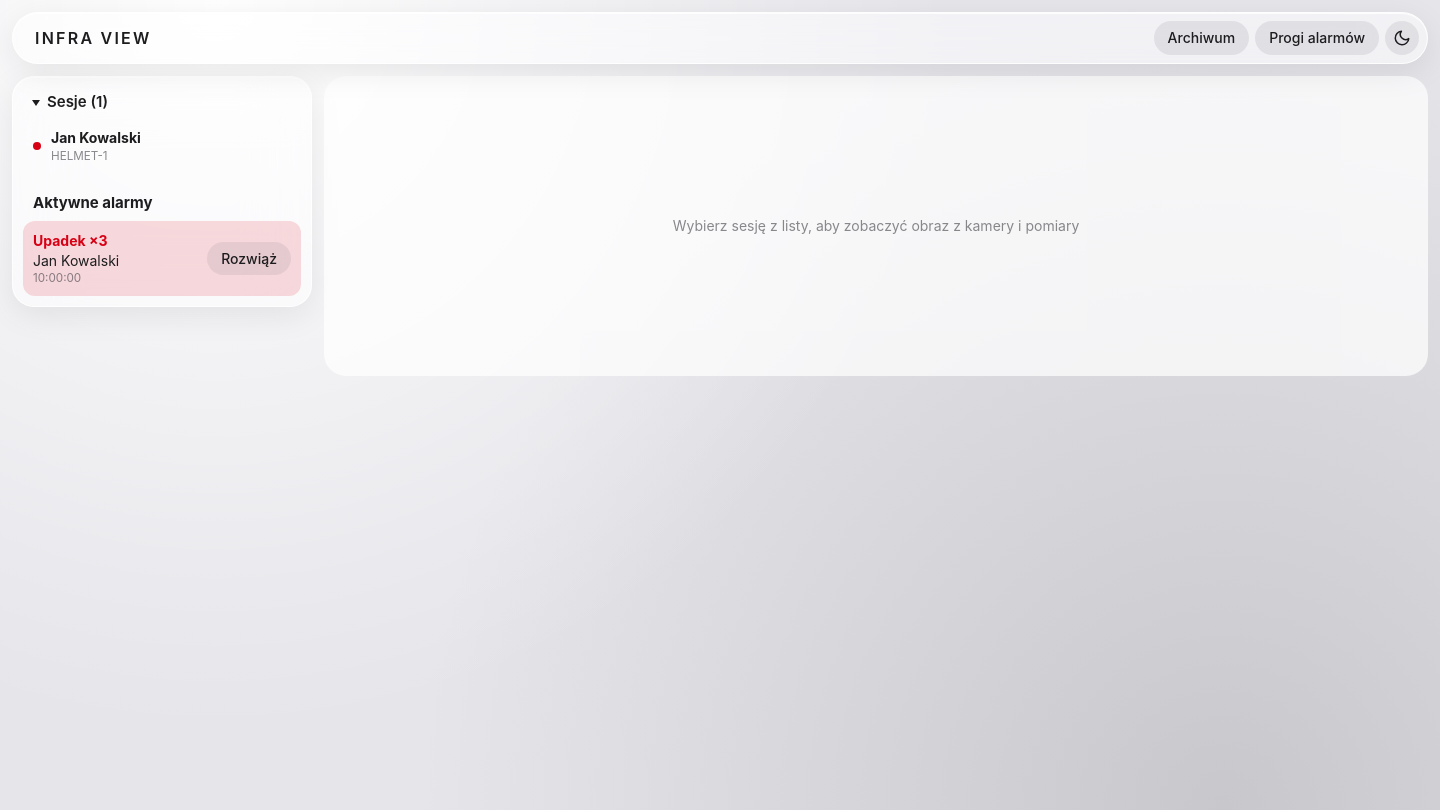
it: archiwum filtruje sesje i otwiera zakończoną
Check: the button "Jan Kowalski HELMET-1" is shown, box [23, 120, 301, 172]
Click the button "Archiwum" at (1201, 38), box [1154, 21, 1249, 55]
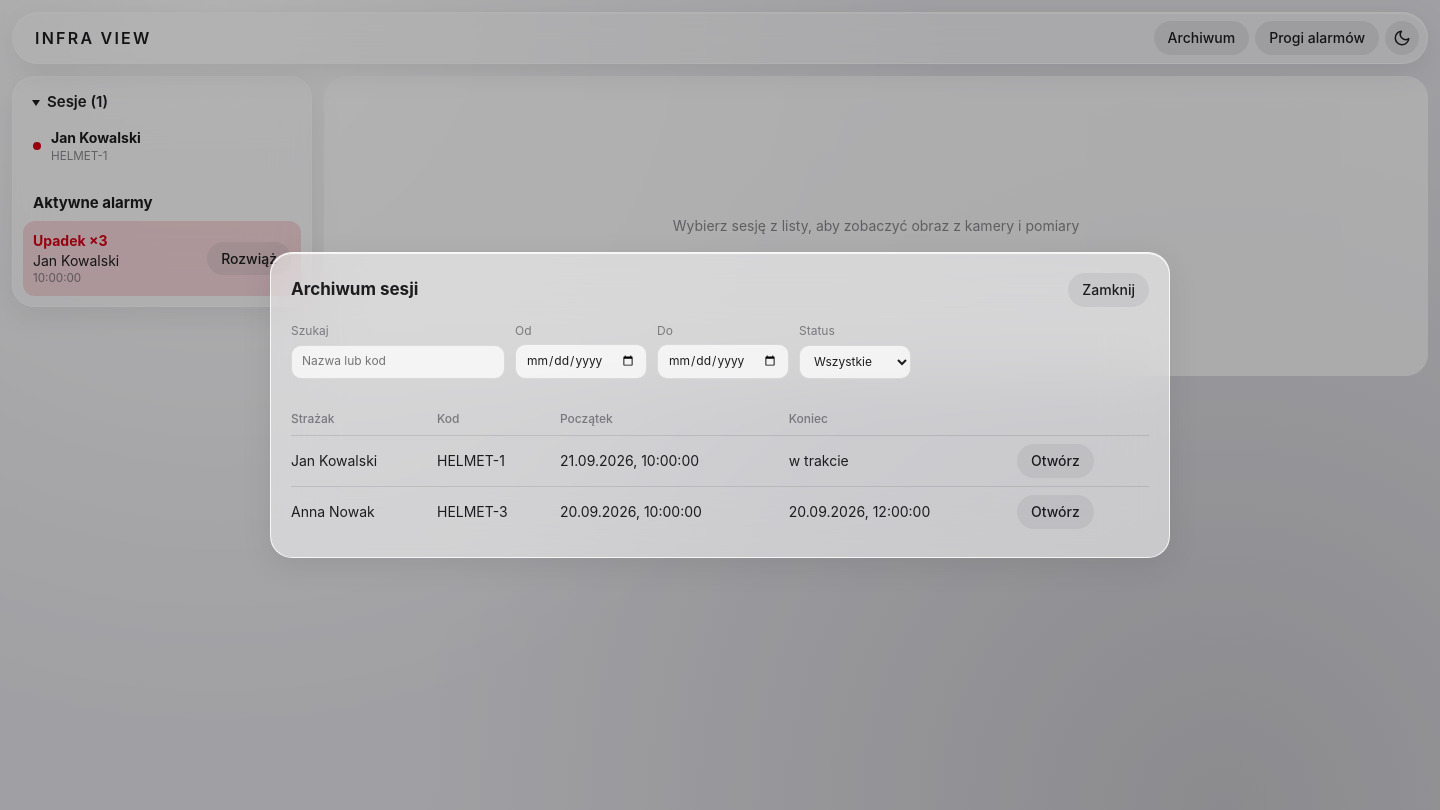
Type "anna" into the field labelled "Szukaj" at (398, 362), box [291, 345, 505, 379]
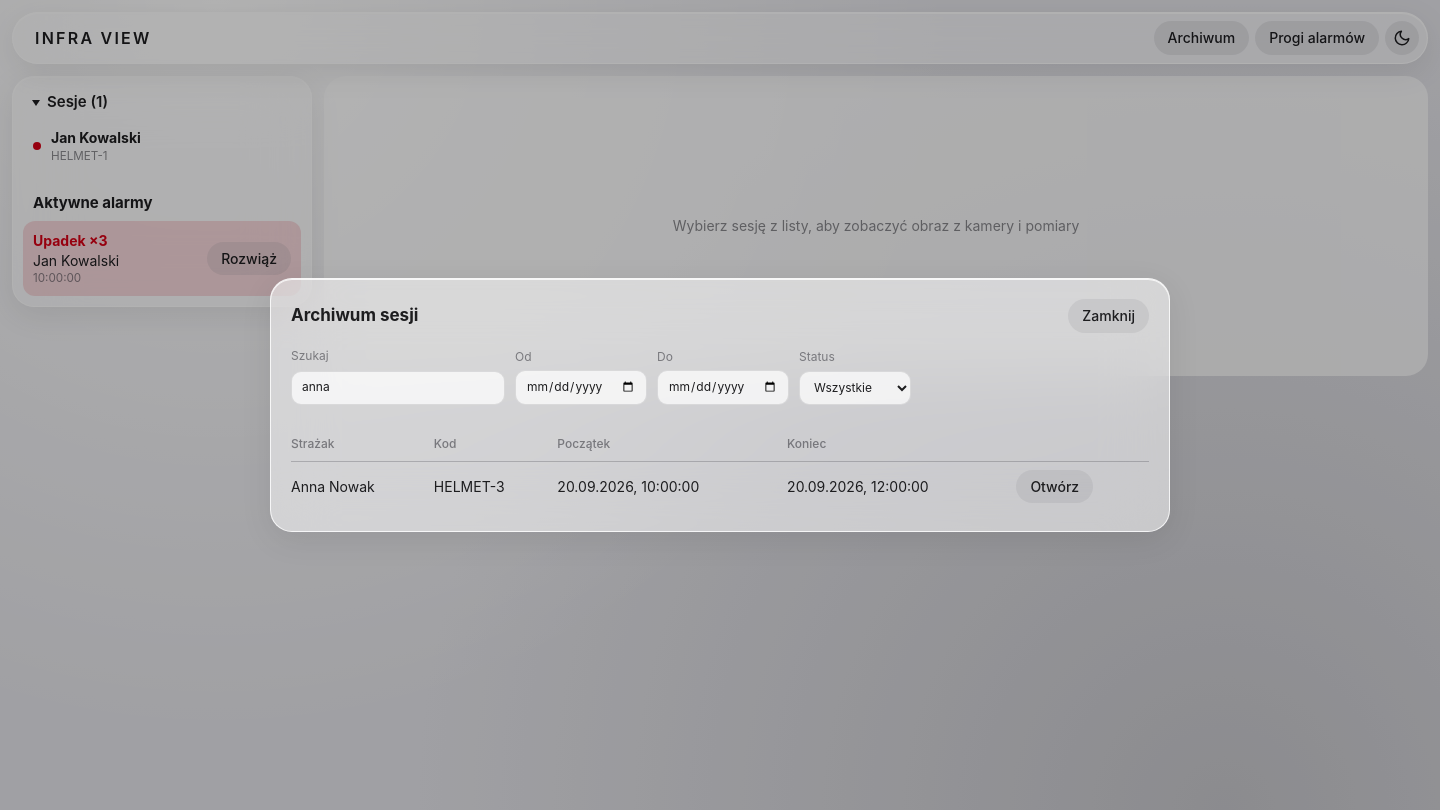
Click the button "Otwórz" at (1055, 486), box [1016, 470, 1093, 503]
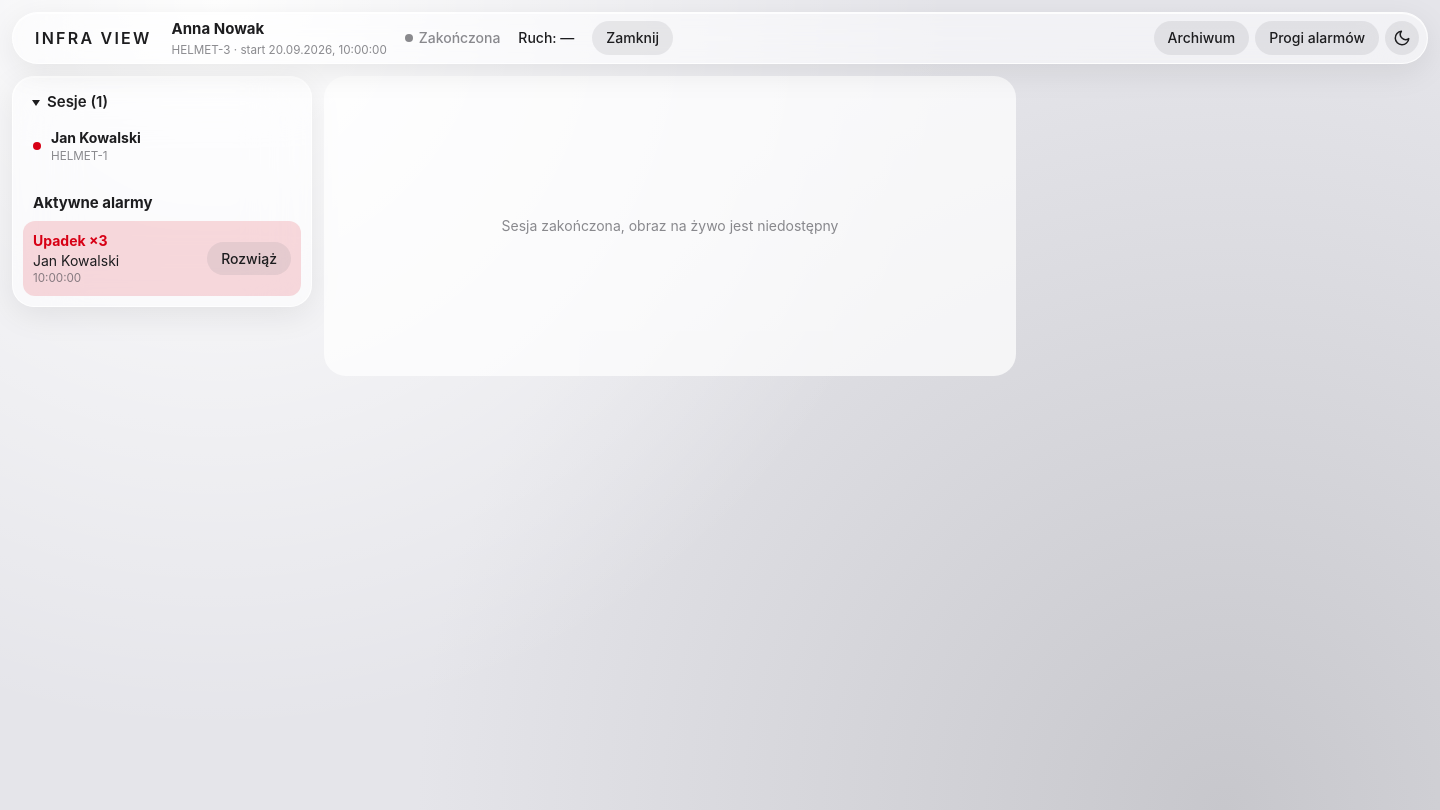
Check: the heading "Anna Nowak" is shown, box [172, 19, 264, 38]
Check: the text "Sesja zakończona, obraz na żywo jest niedostępny" is shown, box [324, 76, 1016, 376]
